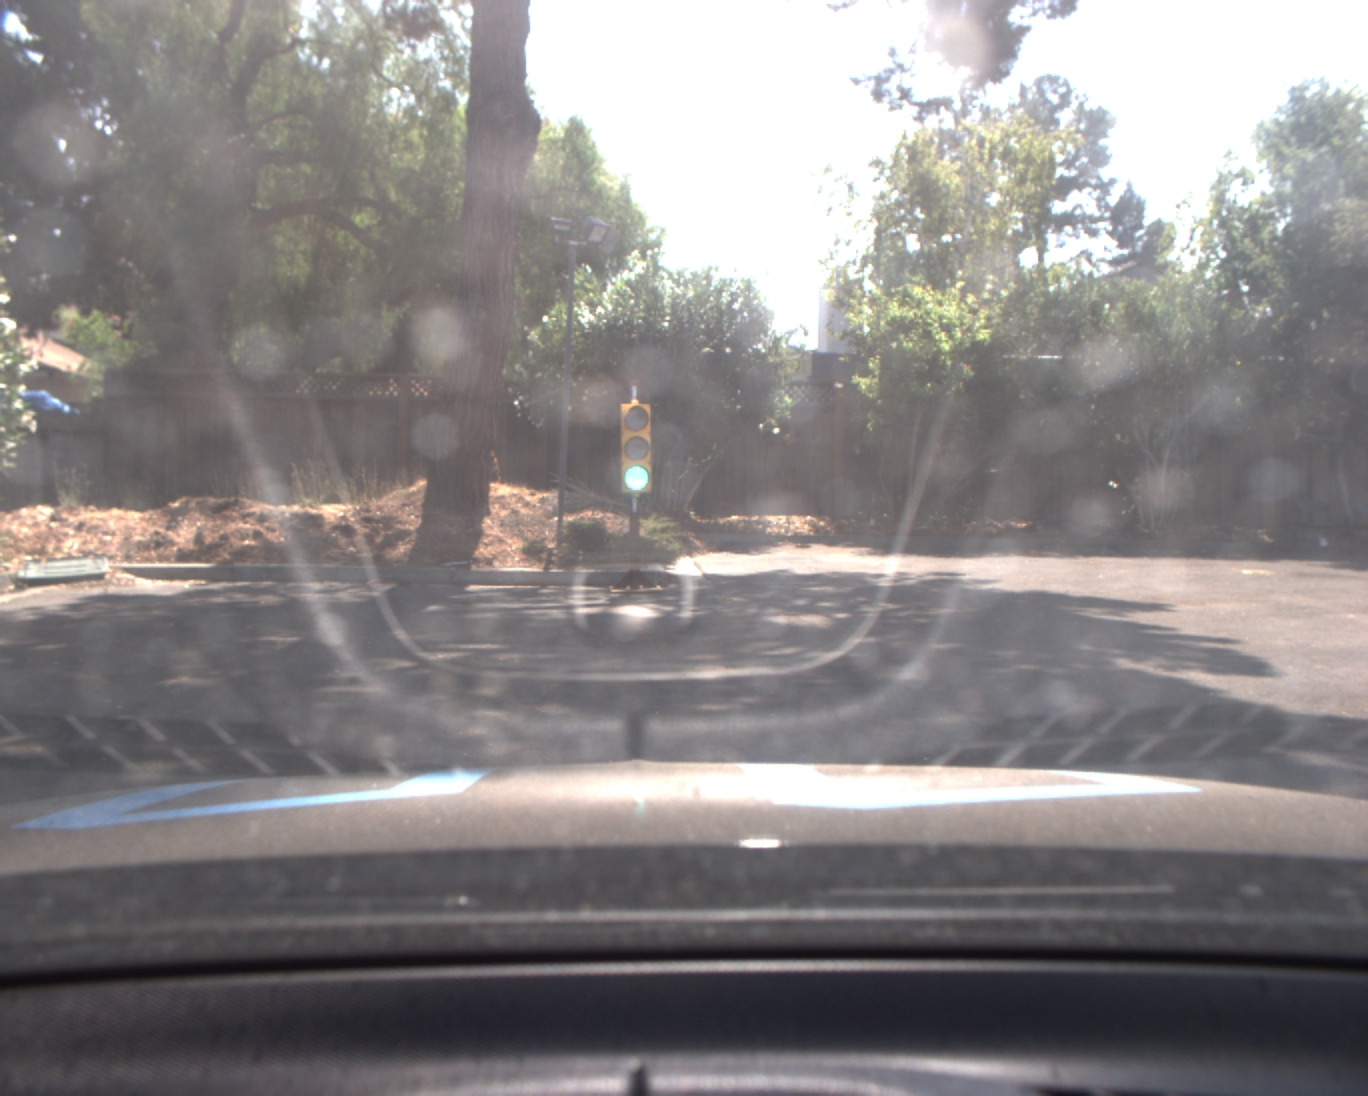green: (620, 401, 651, 498)
